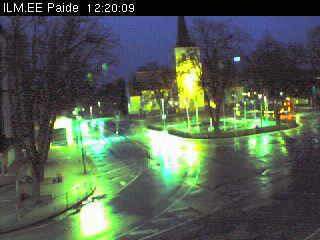car: (264, 100, 291, 116)
